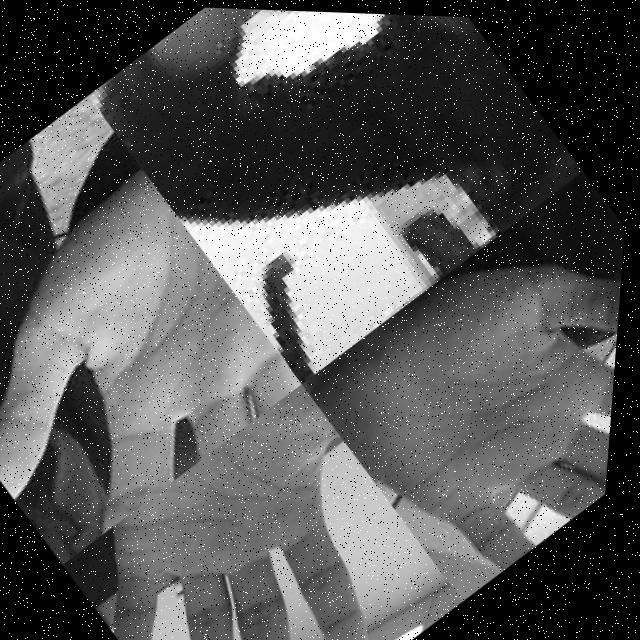no-gloves: (297, 160, 631, 600), (0, 171, 319, 570), (67, 374, 480, 640), (220, 7, 450, 104)
